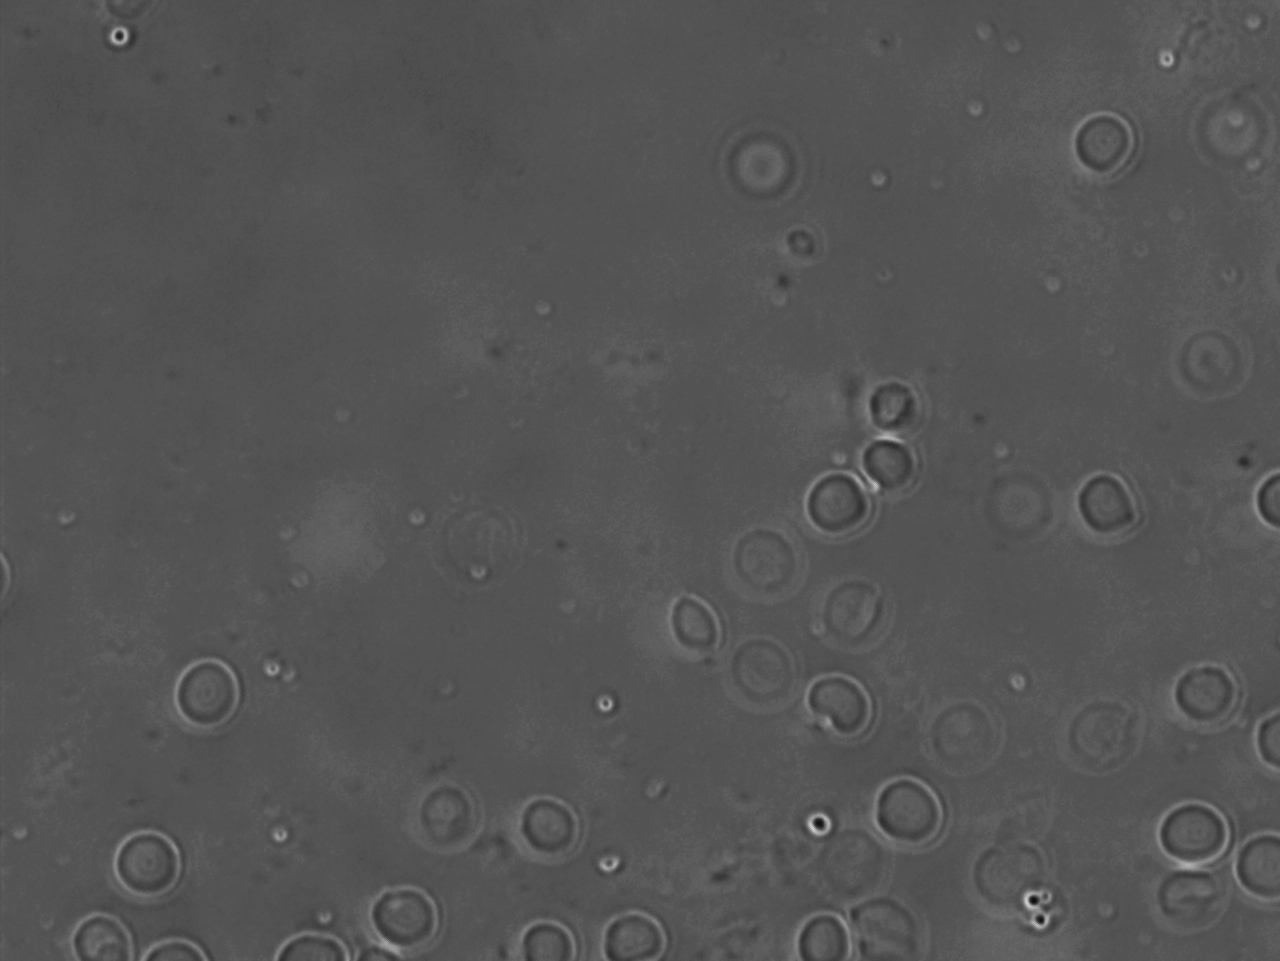depth:0: (102, 822, 213, 907), (163, 649, 263, 740), (797, 660, 892, 755), (1147, 785, 1240, 879), (861, 769, 951, 865), (1167, 649, 1261, 737), (1069, 461, 1156, 551), (847, 427, 939, 508), (353, 879, 452, 953), (798, 457, 878, 542), (510, 785, 592, 866), (1066, 112, 1141, 191), (1221, 817, 1280, 903), (592, 906, 682, 961), (505, 903, 582, 961), (779, 913, 862, 961)
